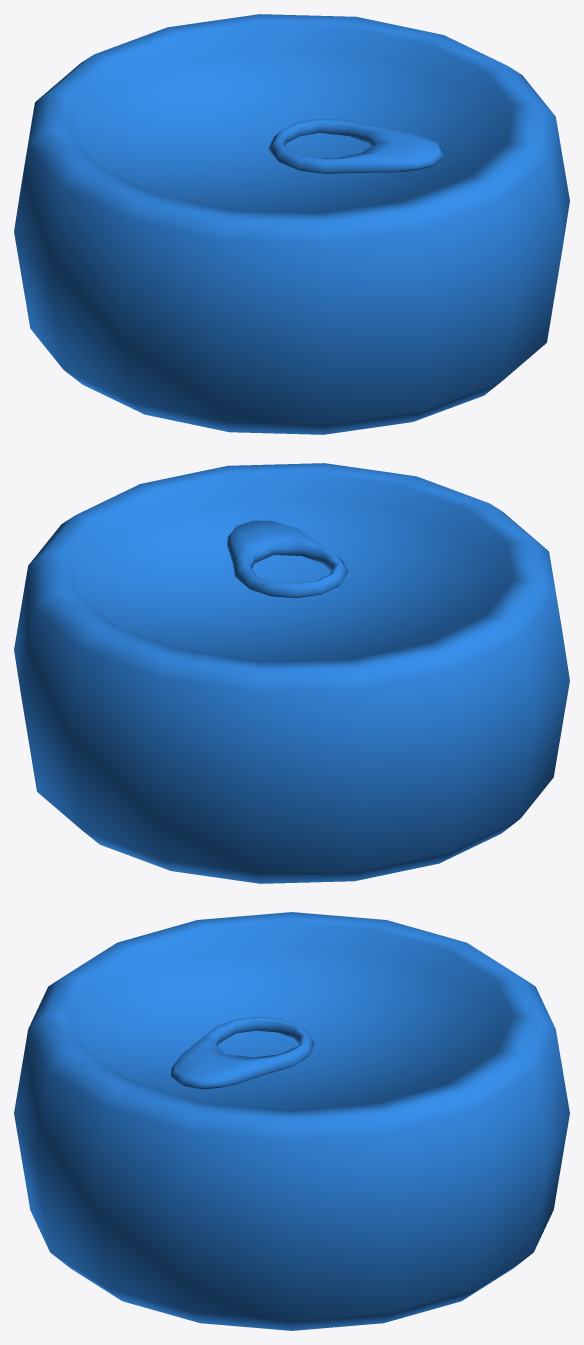
File: S_Can_3.fbx
3 views of the same model, one above another, from view 1: azimuth 30°, elevation 25°; view 2: azimuth 150°, elevation 25°; view 3: azimuth 270°, elevation 25° (orthographic).
Visible parts, largest first — view 1: Tuna_can_1_low; view 2: Tuna_can_1_low; view 3: Tuna_can_1_low.
Part boxes in pixels (<box>): Tuna_can_1_low: <box>14,14,569,434</box>; Tuna_can_1_low: <box>14,463,569,883</box>; Tuna_can_1_low: <box>14,912,569,1330</box>.
Size of the model in its own units: 0.1291 by 0.0546 by 0.1291.
